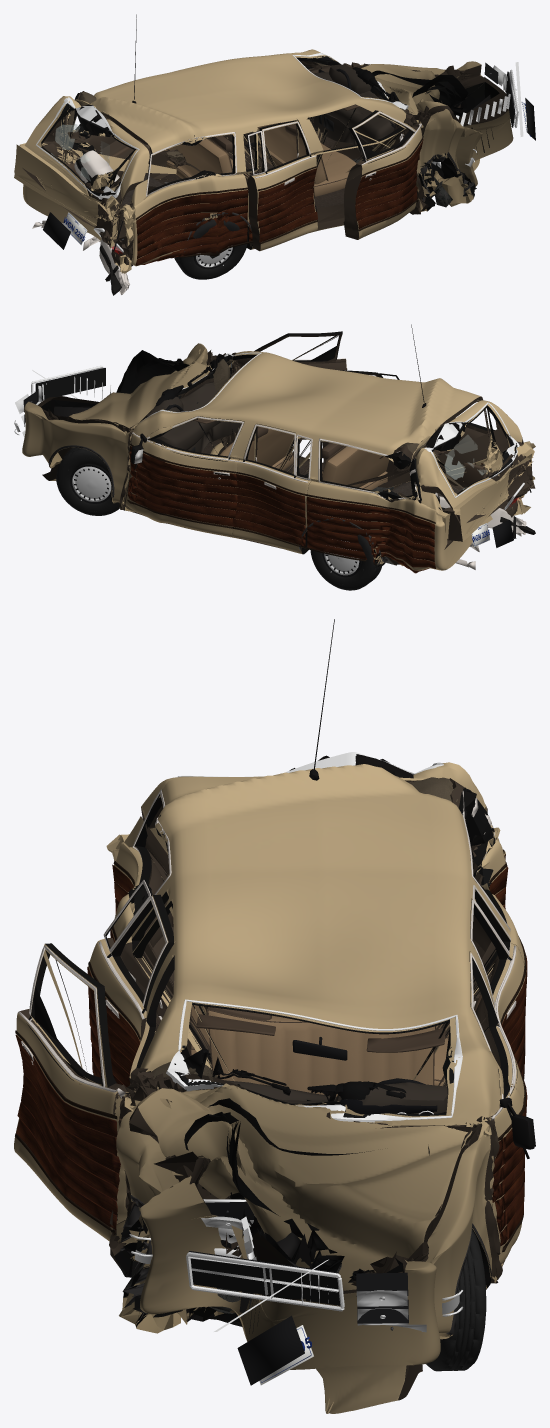
File: wagon82_front_corner_R_d3_lod1.glb
3 views of the same model, one above another, from view 1: azimuth 30°, elevation 25°; view 2: azimuth 150°, elevation 25°; view 3: azimuth 270°, elevation 25° (orthographic). The views are drawn at different scales.
Visible parts, largest first — view 1: Body, Tailgate, Interior, Trim, Trim_FR, Trim_RR, Door_FR, Hood, Ends, Door_RR, Glass_Tailgate, Wheel_RR_mesh (+3 smaller); view 2: Body, Trim, Interior, Tailgate, Trim_FL, Hood, Trim_RL, Wheel_FL_mesh, Door_FL, Ends, Door_RL, Wheel_RL_mesh (+4 smaller); view 3: Body, Hood, Interior, Ends, Trim_FR, Door_FR, Trim, Glass, Trim_FL, Trim_RR, Wheel_FL_mesh, Door_RR (+5 smaller).
Boxes of the visible parts, x1=… form: Body: x1=19, y1=49, x2=513, y2=273; Tailgate: x1=14, y1=96, x2=149, y2=248; Interior: x1=66, y1=64, x2=395, y2=204; Trim: x1=82, y1=14, x2=476, y2=265; Trim_FR: x1=352, y1=111, x2=423, y2=231; Trim_RR: x1=248, y1=121, x2=317, y2=244; Door_FR: x1=343, y1=110, x2=422, y2=239; Hood: x1=350, y1=63, x2=479, y2=170; Ends: x1=43, y1=62, x2=535, y2=252; Door_RR: x1=247, y1=120, x2=317, y2=251; Glass_Tailgate: x1=36, y1=97, x2=139, y2=199; Wheel_RR_mesh: x1=174, y1=215, x2=247, y2=279; Body: x1=22, y1=349, x2=535, y2=570; Trim: x1=48, y1=324, x2=482, y2=573; Interior: x1=146, y1=372, x2=483, y2=496; Tailgate: x1=415, y1=400, x2=535, y2=541; Trim_FL: x1=127, y1=416, x2=243, y2=528; Hood: x1=42, y1=343, x2=217, y2=480; Trim_RL: x1=232, y1=424, x2=312, y2=546; Wheel_FL_mesh: x1=56, y1=447, x2=119, y2=515; Door_FL: x1=123, y1=416, x2=244, y2=536; Ends: x1=14, y1=365, x2=531, y2=547; Door_RL: x1=232, y1=424, x2=311, y2=553; Wheel_RL_mesh: x1=310, y1=523, x2=381, y2=590; Body: x1=106, y1=764, x2=524, y2=1369; Hood: x1=129, y1=1083, x2=476, y2=1413; Interior: x1=171, y1=914, x2=449, y2=1114; Ends: x1=129, y1=1199, x2=463, y2=1385; Trim_FR: x1=15, y1=945, x2=125, y2=1236; Door_FR: x1=14, y1=943, x2=152, y2=1268; Trim: x1=110, y1=619, x2=527, y2=1334; Glass: x1=131, y1=787, x2=496, y2=1122; Trim_FL: x1=470, y1=953, x2=535, y2=1252; Trim_RR: x1=87, y1=880, x2=167, y2=1087; Wheel_FL_mesh: x1=426, y1=1230, x2=486, y2=1371; Door_RR: x1=88, y1=894, x2=173, y2=1042.
Bounding box in the file's own units: 4.75 × 2.29 × 2.27.
Materials: 34 (6 with a texture image).
